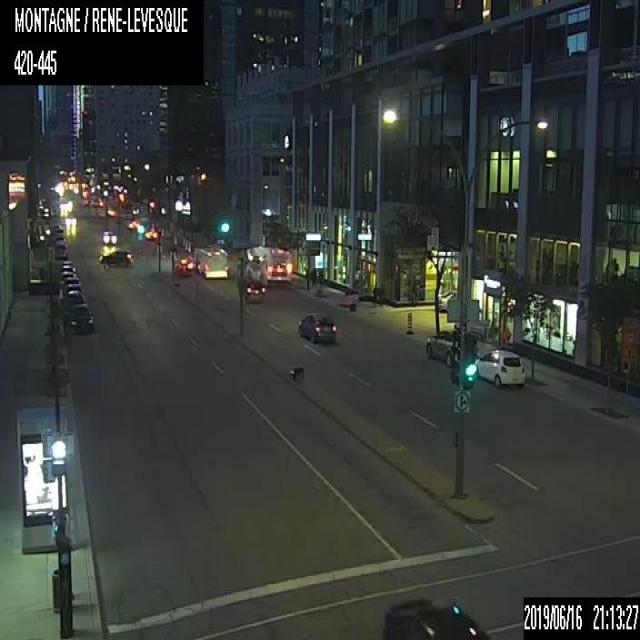bus: (244, 242, 291, 282)
construction: (404, 308, 414, 336), (288, 364, 305, 379), (349, 296, 356, 311)
pedestrian: (370, 281, 377, 307), (309, 265, 317, 287)
vehicle: (383, 597, 490, 639), (424, 325, 478, 368), (472, 348, 524, 388), (296, 309, 336, 342), (191, 243, 228, 278), (64, 304, 96, 335), (238, 278, 265, 302), (96, 248, 131, 266), (64, 290, 88, 308), (437, 290, 457, 311), (173, 257, 193, 278), (57, 269, 76, 285), (54, 240, 68, 259), (62, 282, 84, 294), (101, 229, 116, 244), (436, 634, 486, 638), (145, 226, 159, 240), (64, 276, 80, 284), (59, 264, 75, 271), (61, 259, 72, 264)
